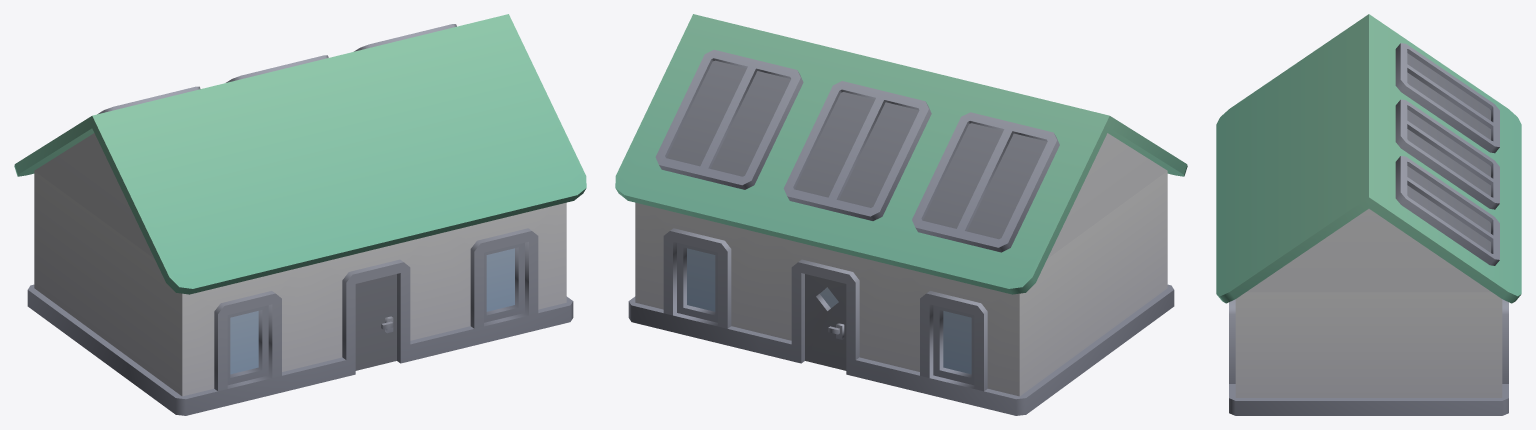
File: building-type-h.glb
3 renders of one model, left to right at view 1: azimuth 30°, elevation 25°; view 2: azimuth 150°, elevation 25°; view 3: azimuth 270°, elevation 25°, orthographic. The views are drawn at different scales.
Visible parts, largest first — view 1: building-type-h; view 2: building-type-h; view 3: building-type-h.
Boxes of the visible parts, x1=… form: building-type-h: x1=14, y1=14, x2=586, y2=415; building-type-h: x1=615, y1=14, x2=1187, y2=415; building-type-h: x1=1216, y1=14, x2=1521, y2=415.
Size of the model in its own units: 1.3 by 0.7375 by 0.916.
